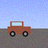vehicle: (7, 22, 30, 37)
